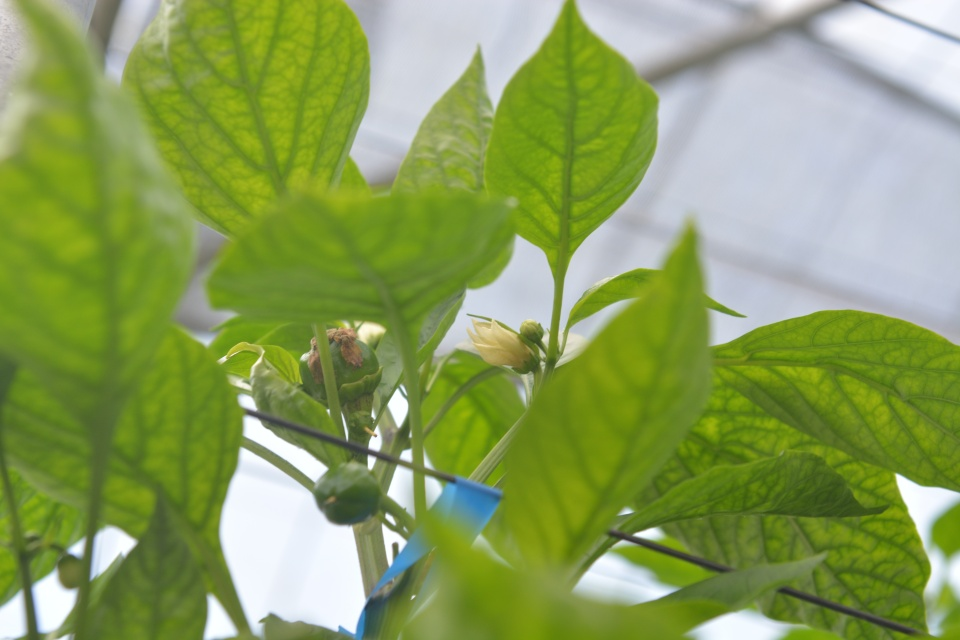flower: (464, 318, 538, 375)
immature: (296, 334, 386, 408), (309, 458, 384, 528)
